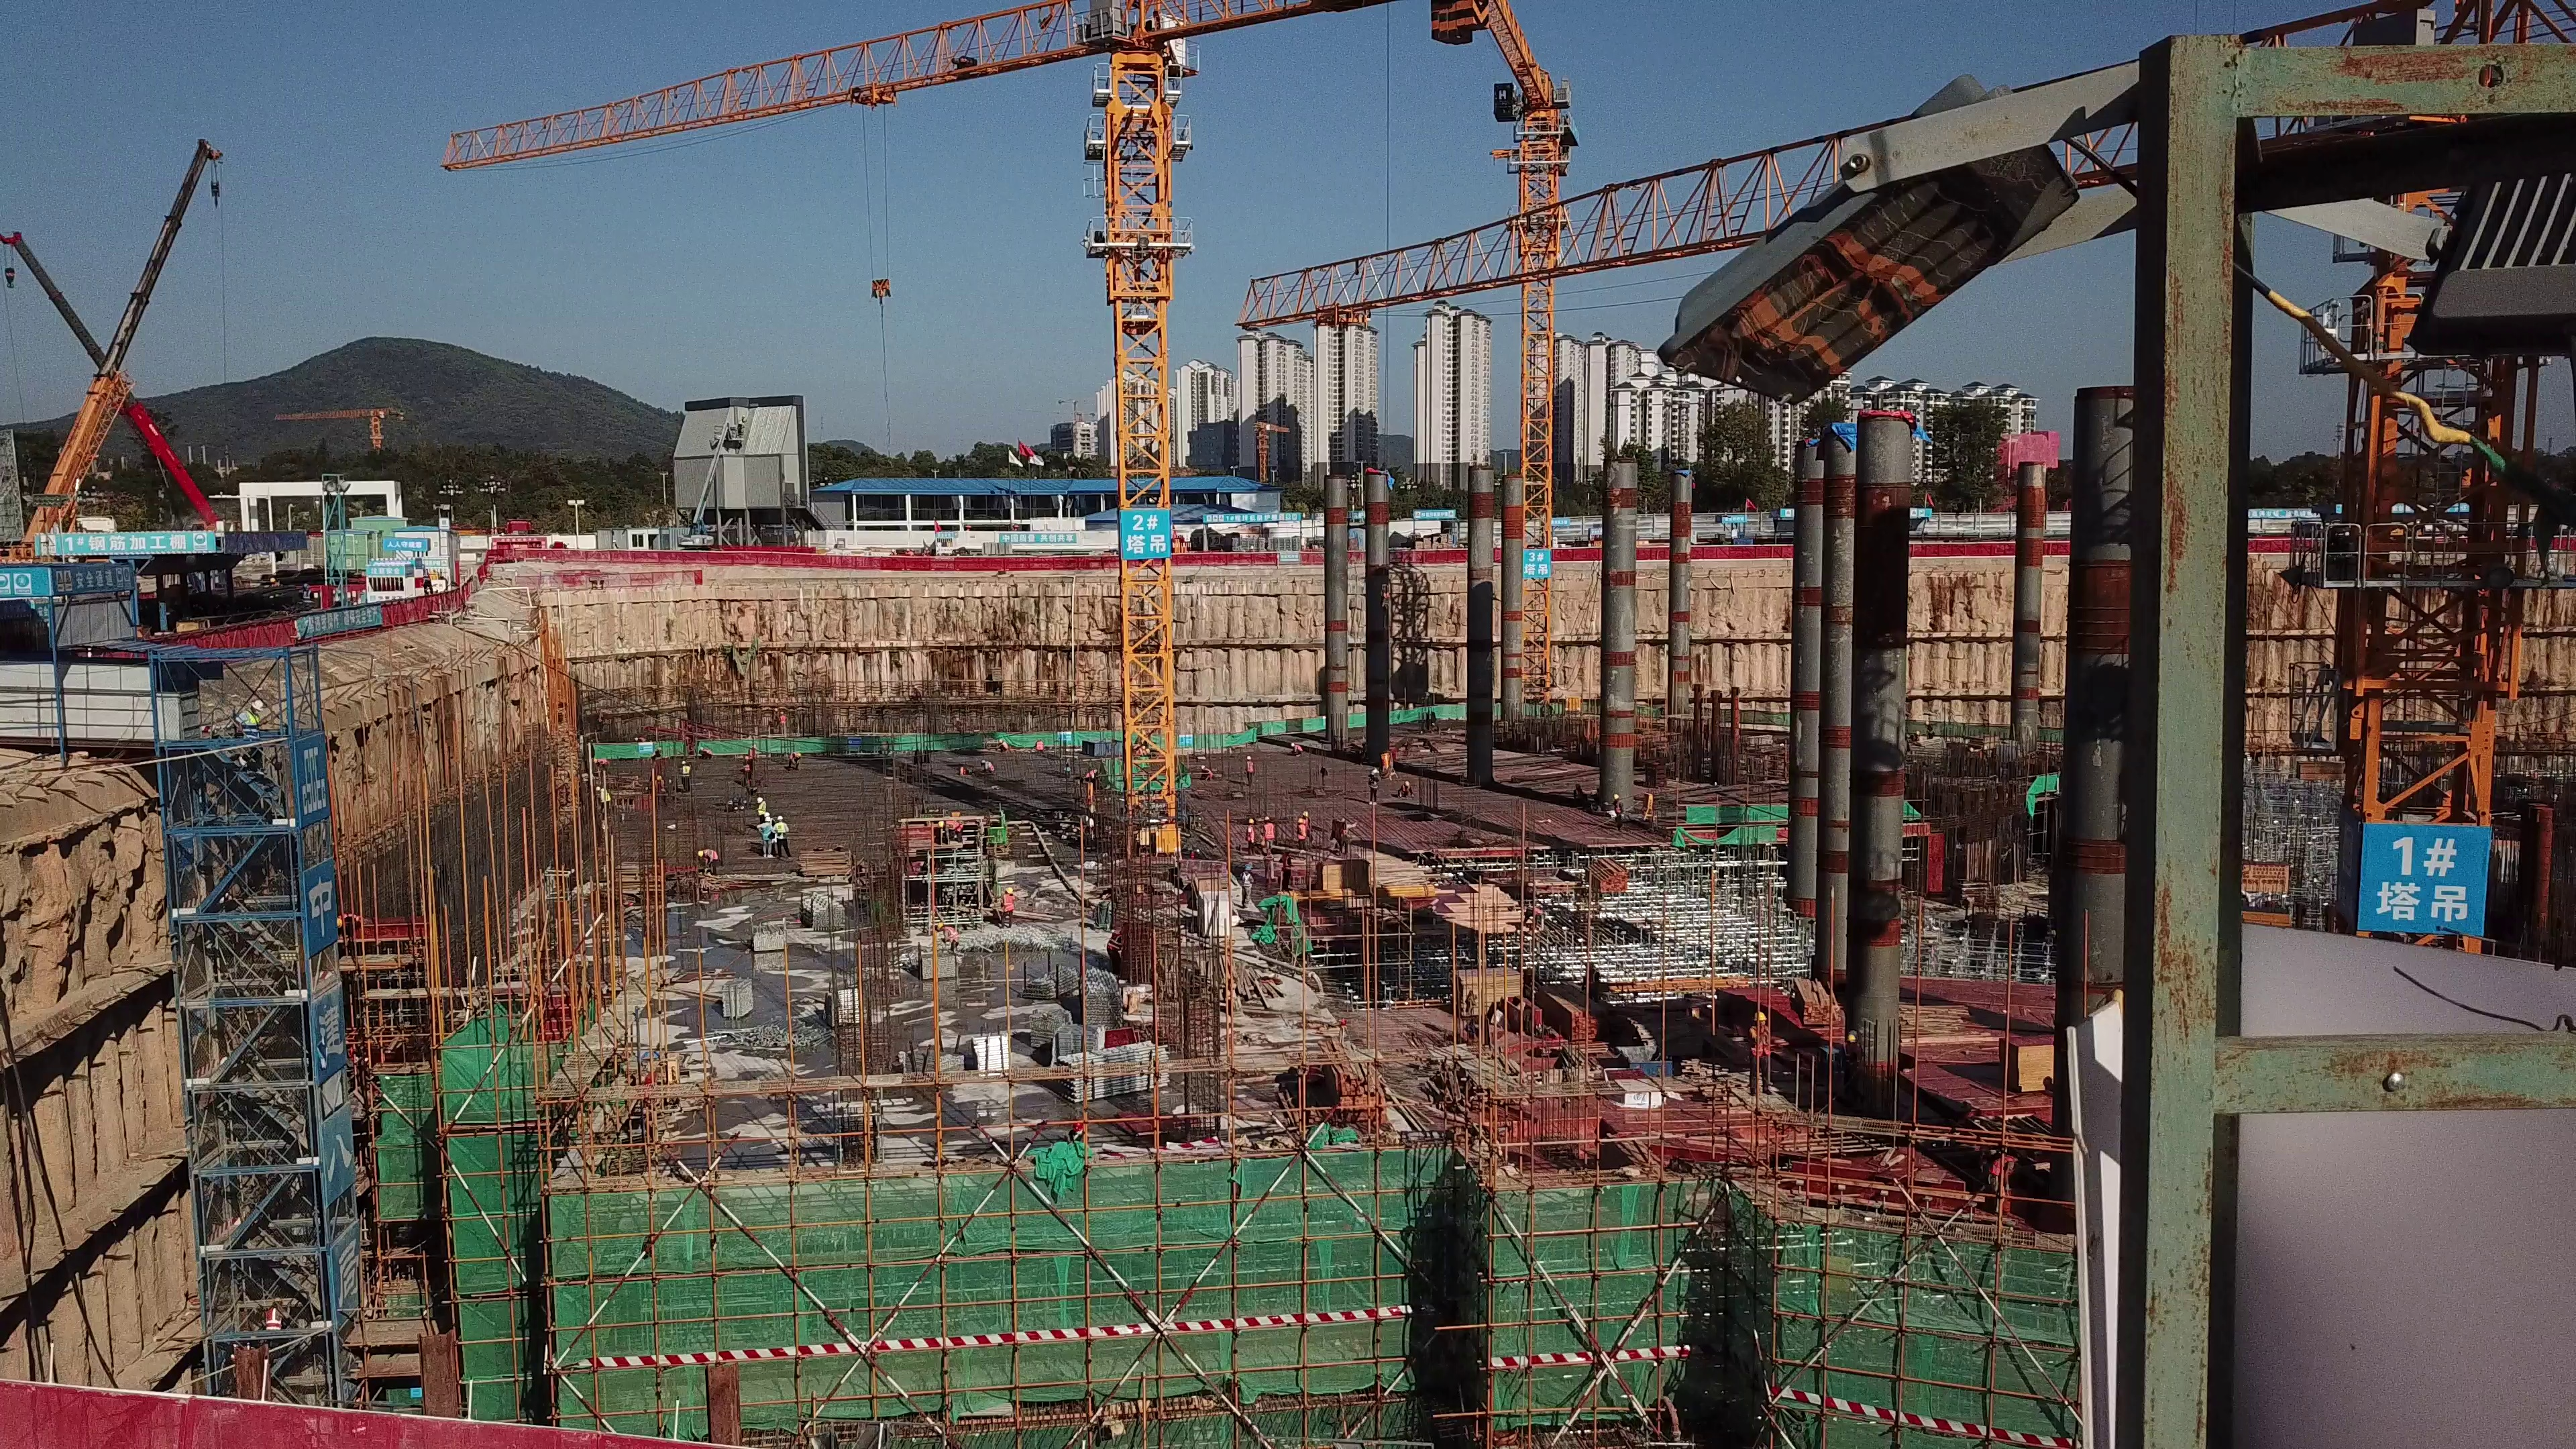helmet: (760, 812, 786, 820), (1752, 1010, 1769, 1022), (1298, 812, 1311, 824), (1005, 881, 1013, 895), (698, 847, 704, 859), (1247, 815, 1255, 824), (936, 920, 943, 928), (937, 820, 944, 827), (757, 796, 763, 804)
person: (935, 923, 962, 959), (1295, 808, 1312, 856), (775, 814, 792, 857), (1001, 885, 1017, 930), (1611, 791, 1625, 833), (679, 759, 696, 796), (697, 845, 721, 870), (940, 818, 969, 838), (1263, 816, 1277, 856), (760, 815, 773, 858), (1246, 816, 1258, 852), (1395, 777, 1417, 796), (1244, 755, 1256, 783), (757, 793, 767, 822), (787, 749, 802, 770), (981, 760, 998, 775), (1288, 743, 1304, 756), (996, 737, 1010, 750), (1199, 765, 1214, 779), (593, 757, 611, 767)
